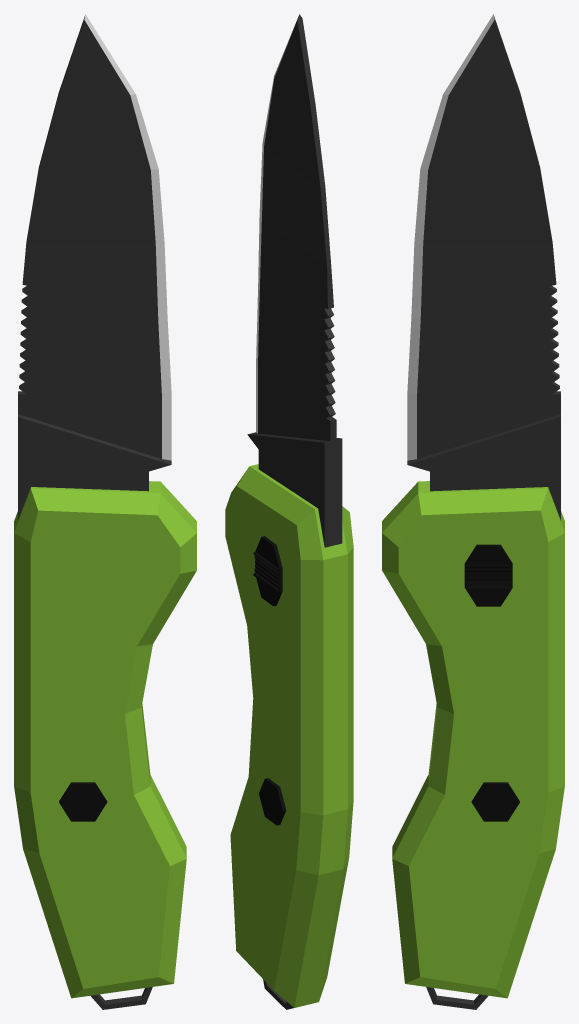
Rendered from Pocket Knife.glb.
The picture shows the model from 3 angles, left to right: view 1: azimuth 90°, elevation 25°; view 2: azimuth 210°, elevation 25°; view 3: azimuth 270°, elevation 25°; orthographic projection.
Parts seen in each view (by area): view 1: Pocket Knife; view 2: Pocket Knife; view 3: Pocket Knife.
Part boxes in pixels (left/top/right/bottom): Pocket Knife: left=14, top=14, right=196, bottom=1009; Pocket Knife: left=225, top=14, right=353, bottom=1009; Pocket Knife: left=382, top=14, right=564, bottom=1009.
Bounding box in the file's own units: 0.0143 × 0.2182 × 0.0364.
Materials: 1 (1 with a texture image).
